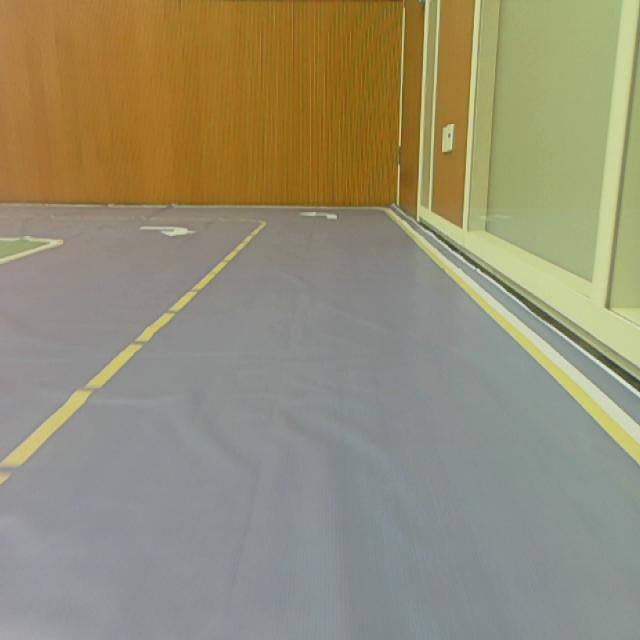left_lane: (0, 223, 269, 488)
right_lane: (386, 210, 640, 468)
